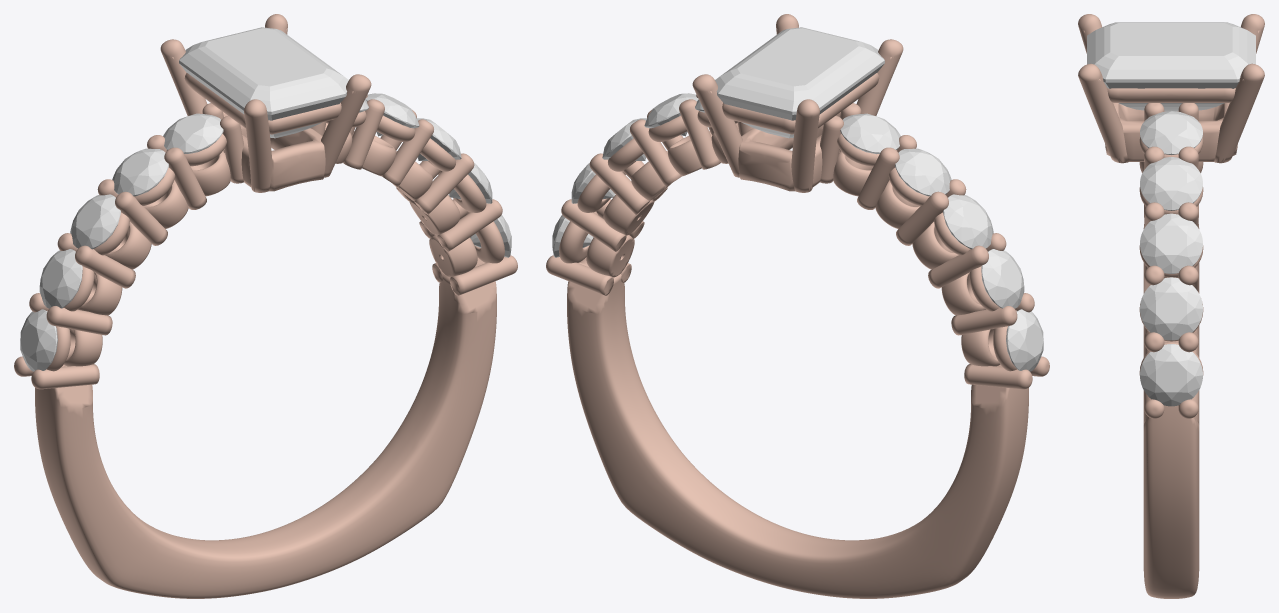
File: diamond-emerald-rosegold-4prong-europeanshank-11stone.glb
The picture shows the model from 3 angles, left to right: view 1: azimuth 30°, elevation 25°; view 2: azimuth 150°, elevation 25°; view 3: azimuth 270°, elevation 25°; orthographic projection.
Parts seen in each view (by area): view 1: metal, stone, side.004, side.005, side.003, side, side.006, side.010; view 2: metal, stone, side.004, side.005, side.003, side, side.006, side.010; view 3: metal, stone, side.008, side.007, side.009, side.010, side.011.
Boxes of the visible parts, x1,y1,x2,y2 form: metal: [14, 14, 517, 598]; stone: [179, 27, 348, 138]; side.004: [70, 194, 120, 249]; side.005: [112, 148, 168, 196]; side.003: [39, 249, 82, 308]; side: [20, 309, 57, 371]; side.006: [163, 113, 223, 154]; side.010: [365, 93, 419, 136]; metal: [546, 14, 1049, 598]; stone: [715, 27, 884, 138]; side.004: [943, 194, 993, 249]; side.005: [895, 148, 951, 196]; side.003: [981, 249, 1024, 308]; side: [1006, 309, 1043, 371]; side.006: [840, 113, 900, 154]; side.010: [644, 93, 698, 136]; metal: [1078, 14, 1264, 598]; stone: [1087, 22, 1255, 111]; side.008: [1140, 277, 1202, 340]; side.007: [1140, 344, 1202, 406]; side.009: [1140, 213, 1202, 273]; side.010: [1140, 157, 1202, 210]; side.011: [1140, 110, 1202, 154].
Size of the model in its own units: 21.87 by 22.75 by 7.4.
